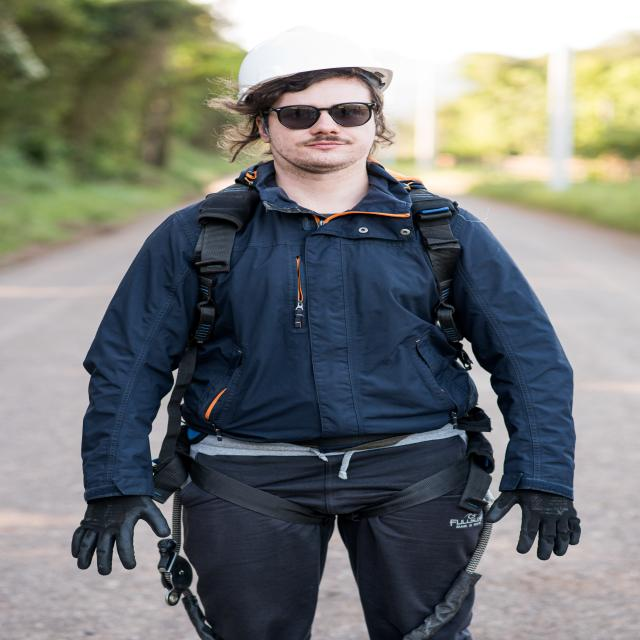capacete: (233, 22, 396, 105)
corda de vida: (154, 167, 510, 585)
luva: (64, 482, 172, 584), (480, 474, 593, 568)
